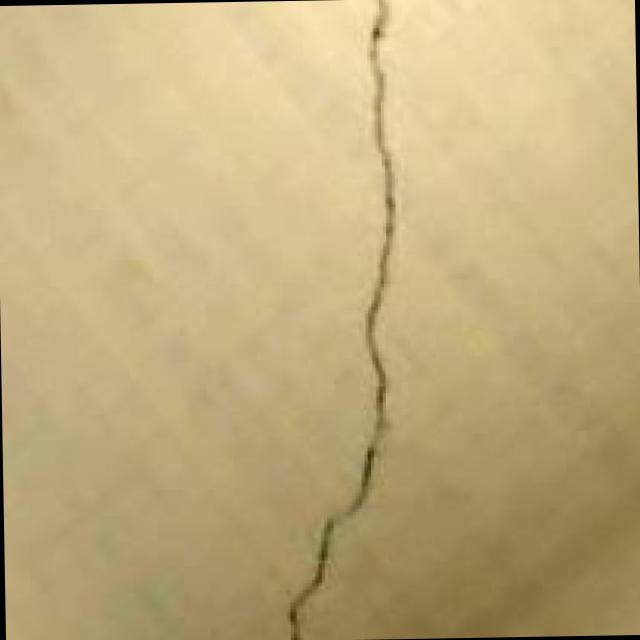crack: (180, 0, 463, 639)
